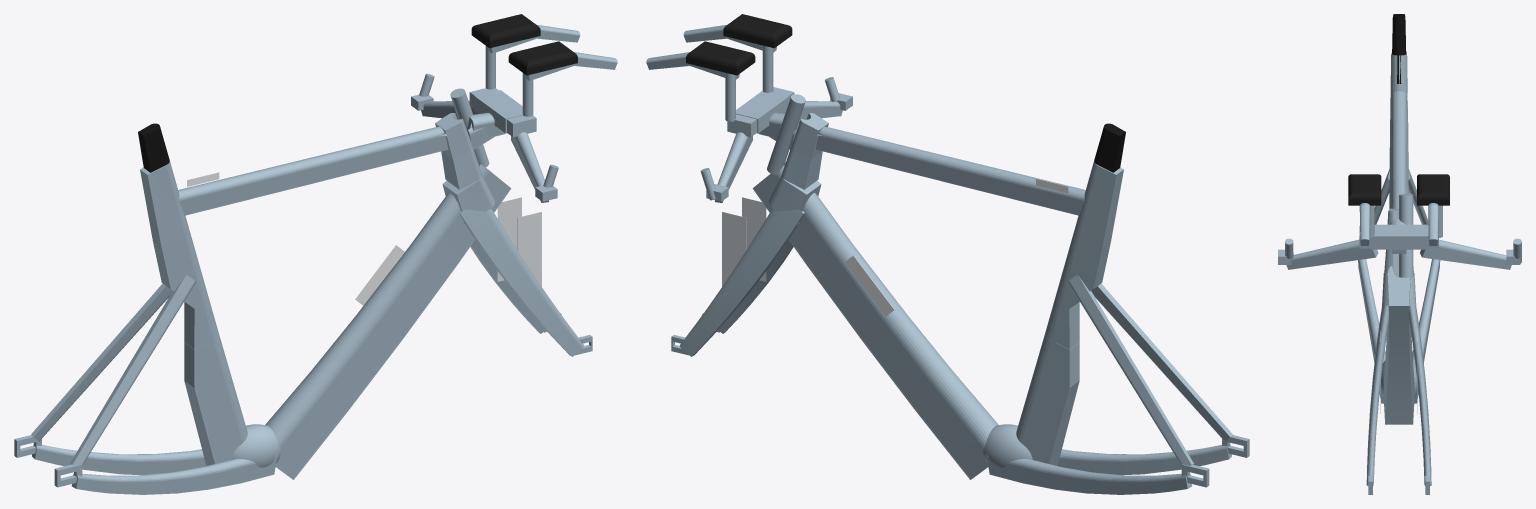
File: shiv_tt_frameset_small.glb
3 views of the same model, side by side, from view 1: azimuth 30°, elevation 25°; view 2: azimuth 150°, elevation 25°; view 3: azimuth 270°, elevation 25° (orthographic). The views are drawn at different scales.
Parts seen in each view (by area): view 1: frame_asm/frame, cockpit_asm/cockpit_carbon, fork_asm/fork/part5, cockpit_asm/armrest (×2), fork_asm/fork_accent (×2), frame_asm/seatpost_black, frame_asm/decal_0, fork_asm/fork/part6; view 2: frame_asm/frame, cockpit_asm/cockpit_carbon, fork_asm/fork/part5, cockpit_asm/armrest (×2), fork_asm/fork_accent (×2), fork_asm/fork/part6, frame_asm/seatpost_black, frame_asm/decal_0; view 3: frame_asm/frame, cockpit_asm/cockpit_carbon, fork_asm/fork/part5, cockpit_asm/armrest (×2), fork_asm/fork/part6, frame_asm/seatpost_black.
Part boxes in pixels (x1,y1,x2,y2): frame_asm/frame: (14,113,511,494); cockpit_asm/cockpit_carbon: (411,25,617,202); fork_asm/fork/part5: (442,175,592,356); cockpit_asm/armrest (×2): (471,14,577,75); fork_asm/fork_accent (×2): (497,197,541,286); frame_asm/seatpost_black: (138,123,169,172); frame_asm/decal_0: (355,245,404,305); fork_asm/fork/part6: (450,88,489,167); frame_asm/frame: (752,113,1249,494); cockpit_asm/cockpit_carbon: (646,25,852,202); fork_asm/fork/part5: (671,175,821,356); cockpit_asm/armrest (×2): (686,14,792,75); fork_asm/fork_accent (×2): (722,197,766,286); fork_asm/fork/part6: (767,94,805,175); frame_asm/seatpost_black: (1094,123,1125,172); frame_asm/decal_0: (845,255,894,316); frame_asm/frame: (1358,52,1440,424); cockpit_asm/cockpit_carbon: (1278,203,1521,269); fork_asm/fork/part5: (1366,273,1431,494); cockpit_asm/armrest (×2): (1348,174,1449,205); fork_asm/fork/part6: (1399,194,1413,277); frame_asm/seatpost_black: (1392,14,1406,83).
Bounding box in the file's own units: 1.04 × 0.6772 × 0.427.
